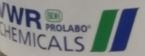VWR: (1, 2, 141, 54)
